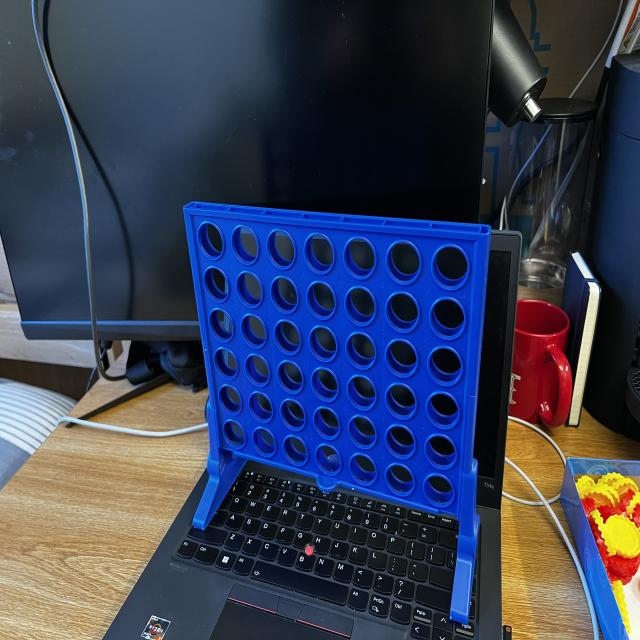Board: (183, 199, 488, 530)
